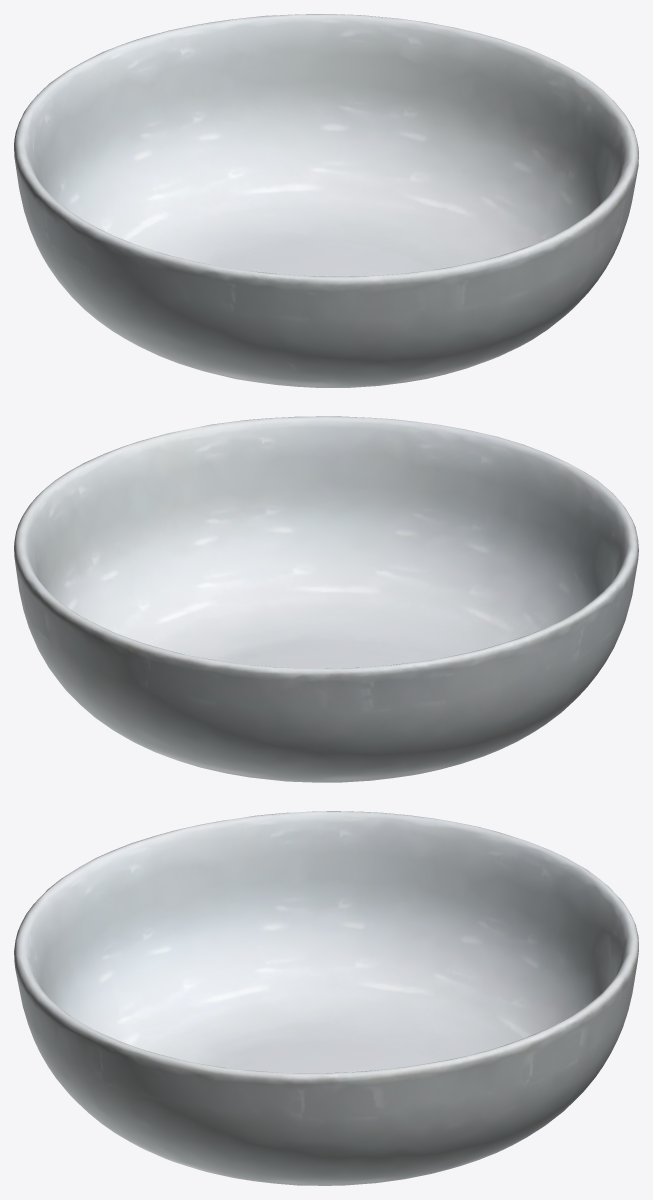
The model's file is Threshold_Porcelain_Serving_Bowl_Coupe_White.glb.
3 renders of one model, top to bottom at view 1: azimuth 30°, elevation 25°; view 2: azimuth 150°, elevation 25°; view 3: azimuth 270°, elevation 25°, orthographic.
Parts seen in each view (by area): view 1: Threshold_Porcelain_Serving_Bowl_Coupe_White; view 2: Threshold_Porcelain_Serving_Bowl_Coupe_White; view 3: Threshold_Porcelain_Serving_Bowl_Coupe_White.
Part boxes in pixels (x1,y1,x2,y2): Threshold_Porcelain_Serving_Bowl_Coupe_White: (14, 14, 638, 387); Threshold_Porcelain_Serving_Bowl_Coupe_White: (14, 416, 638, 782); Threshold_Porcelain_Serving_Bowl_Coupe_White: (14, 811, 638, 1185).
Size of the model in its own units: 0.2082 by 0.0689 by 0.2093.
Materials: 1 (1 with a texture image).
